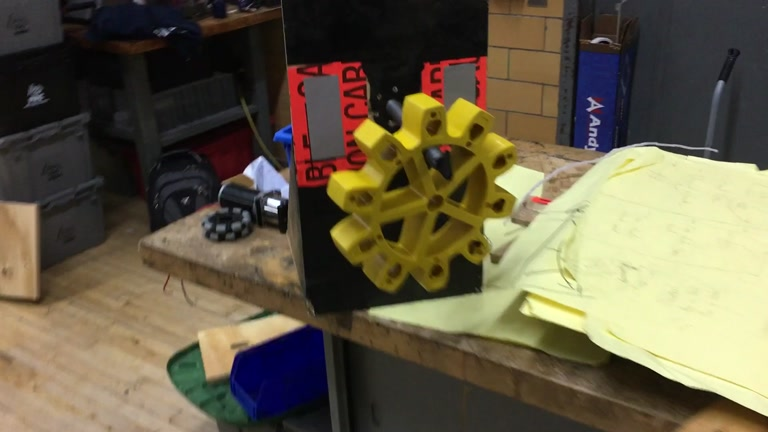gear: (327, 93, 516, 295)
